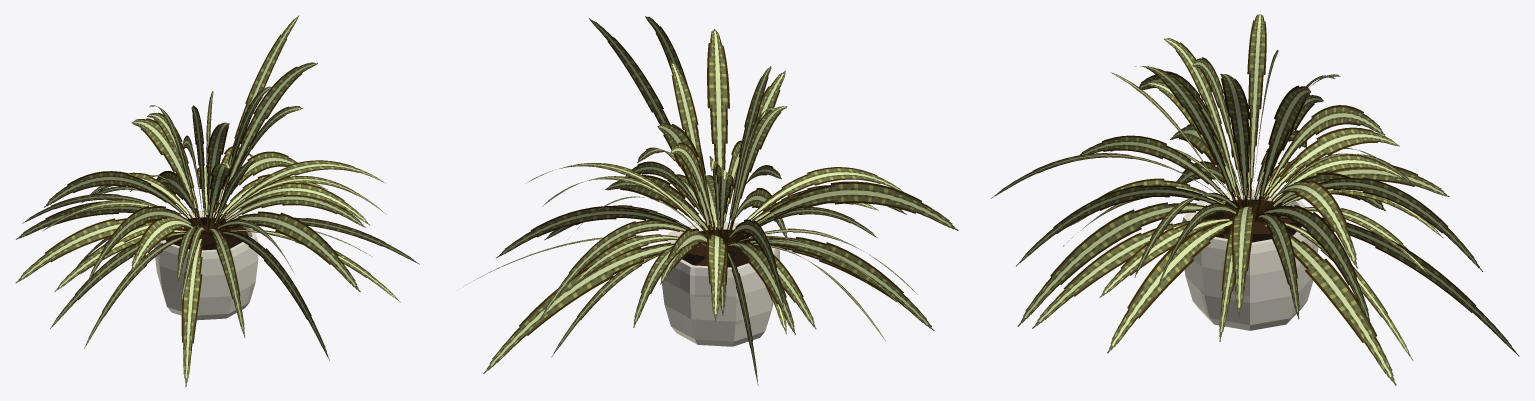
The model's file is plant_spider.gltf.
The picture shows the model from 3 angles, left to right: view 1: azimuth 30°, elevation 25°; view 2: azimuth 150°, elevation 25°; view 3: azimuth 270°, elevation 25°; orthographic projection. The views are drawn at different scales.
Visible parts, largest first — view 1: Pot, Leaf_027, Leaf_016, Leaf_000, Leaf_007, Leaf_015, Leaf_018, Leaf_002, Leaf_010, Leaf_021, Leaf_043, Leaf_036 (+27 smaller); view 2: Pot, Leaf_002, Leaf_031, Leaf_011, Leaf_042, Leaf_041, Leaf_030, Leaf_037, Leaf_036, Leaf_022, Leaf_045, Leaf_034 (+22 smaller); view 3: Pot, Leaf_043, Leaf_026, Leaf_035, Leaf_041, Leaf_032, Leaf_030, Leaf_031, Leaf_027, Leaf_012, Leaf_022, Leaf_007 (+29 smaller).
Boxes of the visible parts, bbox=[...] form: Pot: bbox=[154, 210, 258, 320]; Leaf_027: bbox=[225, 211, 360, 291]; Leaf_016: bbox=[181, 235, 203, 386]; Leaf_000: bbox=[212, 62, 317, 227]; Leaf_007: bbox=[44, 171, 195, 225]; Leaf_015: bbox=[15, 218, 189, 283]; Leaf_018: bbox=[214, 182, 370, 226]; Leaf_002: bbox=[87, 205, 202, 283]; Leaf_010: bbox=[216, 160, 385, 222]; Leaf_021: bbox=[132, 118, 202, 226]; Leaf_043: bbox=[221, 231, 329, 360]; Leaf_036: bbox=[210, 15, 299, 228]; Pot: bbox=[661, 221, 779, 346]; Leaf_002: bbox=[731, 181, 958, 243]; Leaf_031: bbox=[483, 242, 706, 373]; Leaf_011: bbox=[746, 237, 934, 330]; Leaf_042: bbox=[707, 29, 729, 237]; Leaf_041: bbox=[496, 206, 691, 258]; Leaf_030: bbox=[541, 219, 686, 316]; Leaf_037: bbox=[728, 167, 903, 239]; Leaf_036: bbox=[589, 18, 711, 233]; Leaf_022: bbox=[727, 241, 795, 334]; Leaf_045: bbox=[670, 62, 705, 186]; Leaf_034: bbox=[707, 234, 726, 321]; Pot: bbox=[1182, 189, 1318, 330]; Leaf_043: bbox=[1017, 202, 1235, 326]; Leaf_026: bbox=[1254, 220, 1396, 385]; Leaf_035: bbox=[1107, 220, 1232, 353]; Leaf_041: bbox=[1255, 205, 1371, 325]; Leaf_032: bbox=[1032, 218, 1220, 328]; Leaf_030: bbox=[1272, 177, 1483, 271]; Leaf_031: bbox=[1277, 215, 1519, 356]; Leaf_027: bbox=[1016, 185, 1221, 266]; Leaf_012: bbox=[1247, 14, 1266, 206]; Leaf_022: bbox=[1260, 127, 1399, 208]; Leaf_007: bbox=[1259, 105, 1385, 209].
Size of the model in its own units: 5.61 by 3.93 by 5.74.
3 materials, 3 textured.
